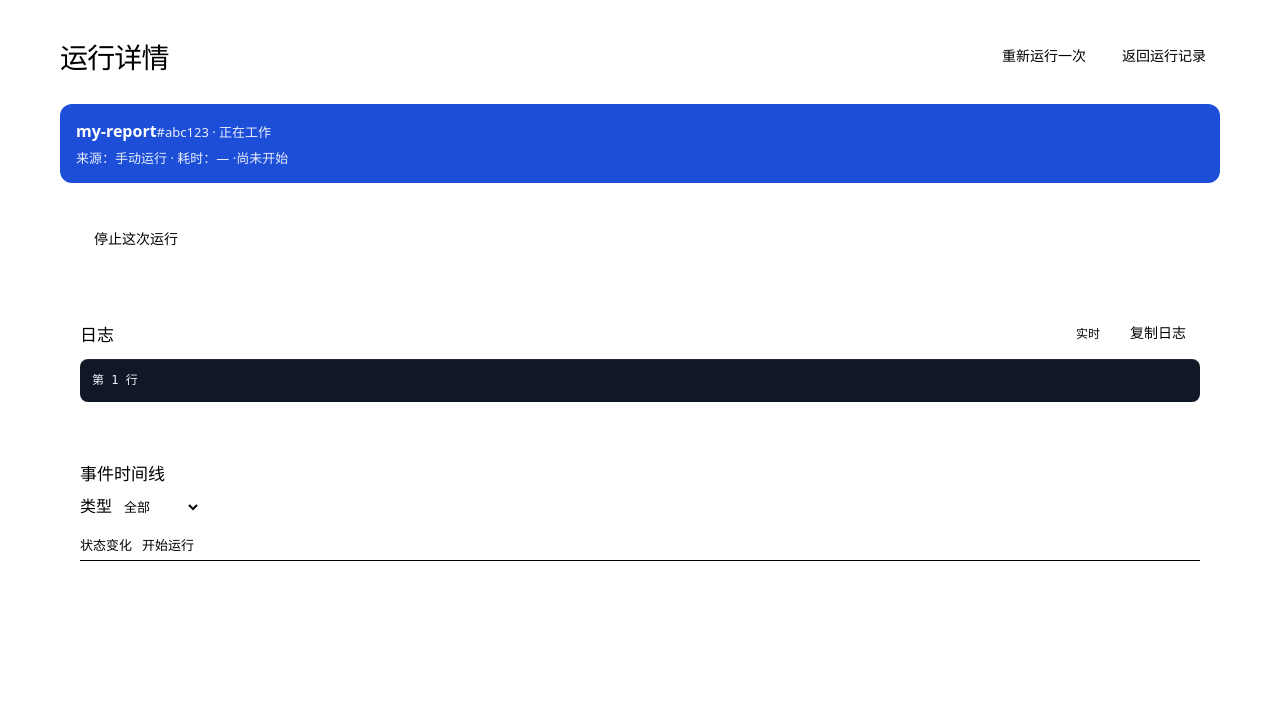
Test: RunDetailScreen › 重新运行失败给提示
Click the button "重新运行一次" at (1044, 56), box left=988, top=38, right=1100, bottom=74
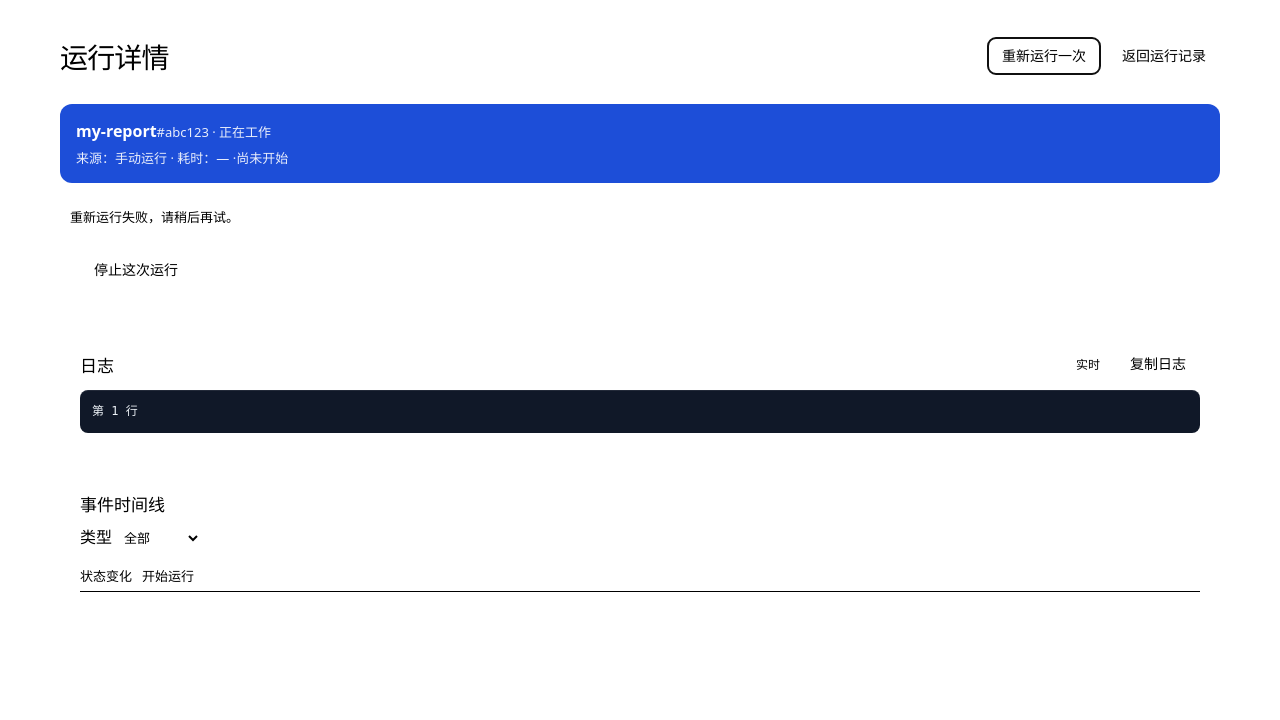
Check: the message shows "重新运行失败", box left=70, top=208, right=239, bottom=226
